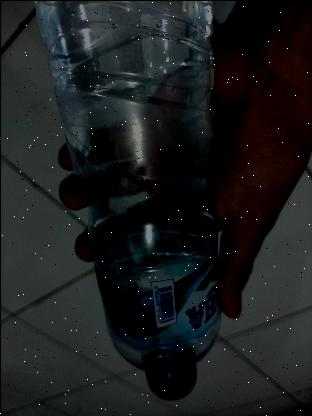Plastic Bottle: (28, 0, 228, 402)
